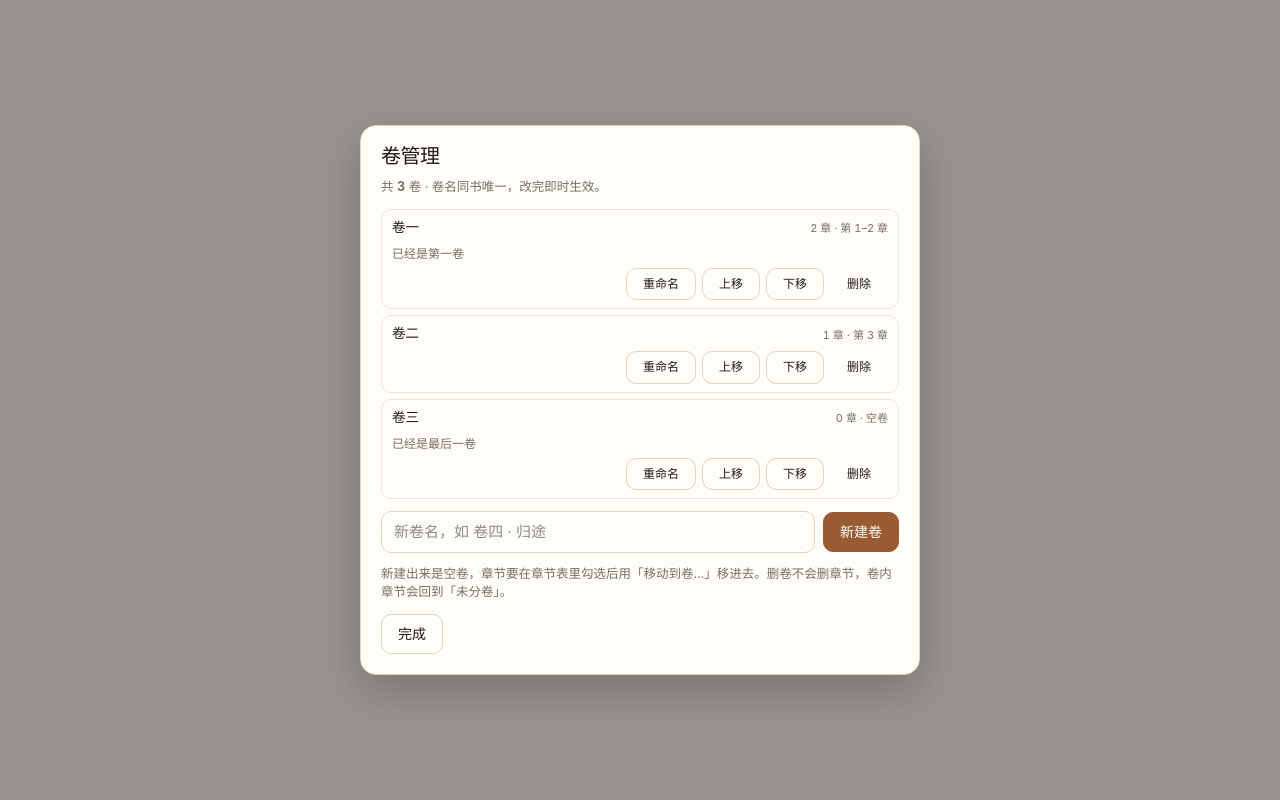
卷管理弹窗 › 新建空卷：空名与重名都在前端挡下，不发请求
The image size is (1280, 800).
Click the button with test id "volume-create" at coordinates (861, 532), box [823,512,899,552]
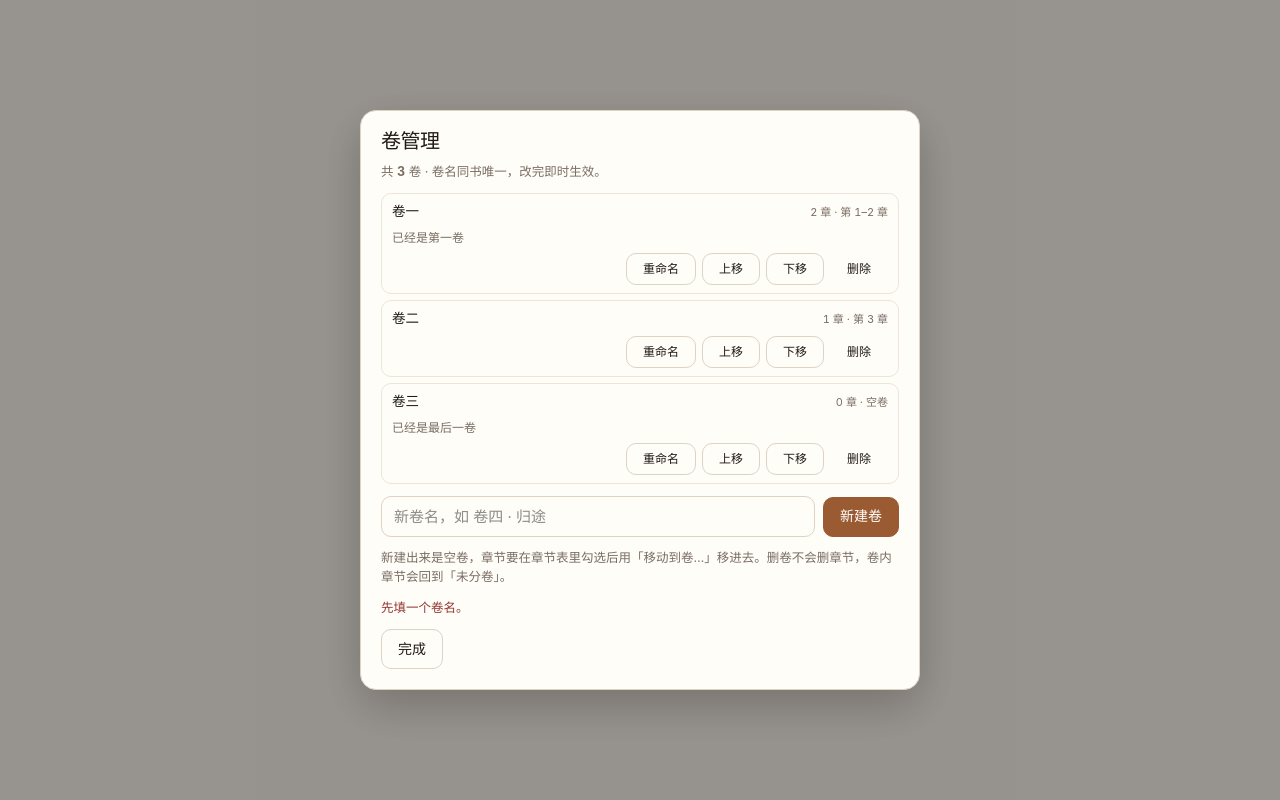
Check: the message with test id "volume-error" reads "先填一个卷名。", box [381,600,468,615]
Type " 卷一 " into the field with test id "volume-new-input" at coordinates (598, 517), box [381,496,815,537]
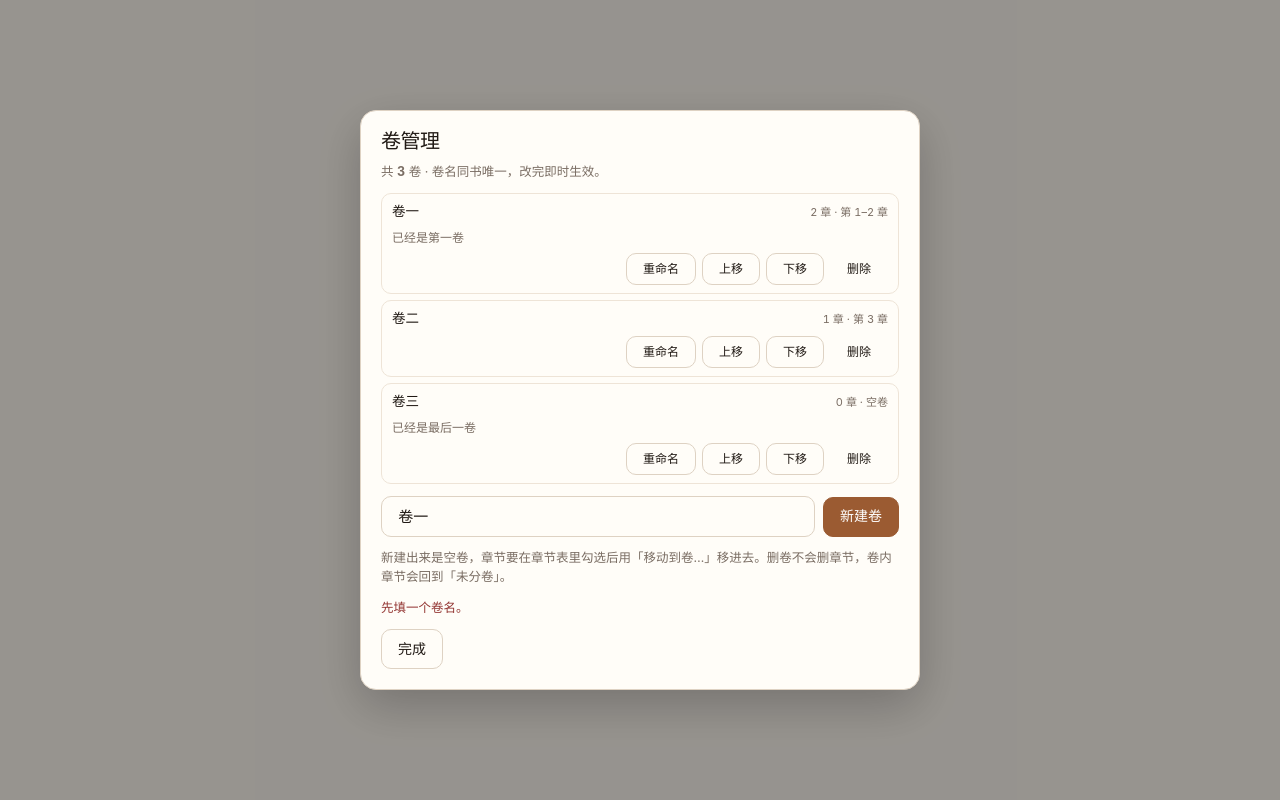
Click the button with test id "volume-create" at coordinates (861, 517), box [823,497,899,537]
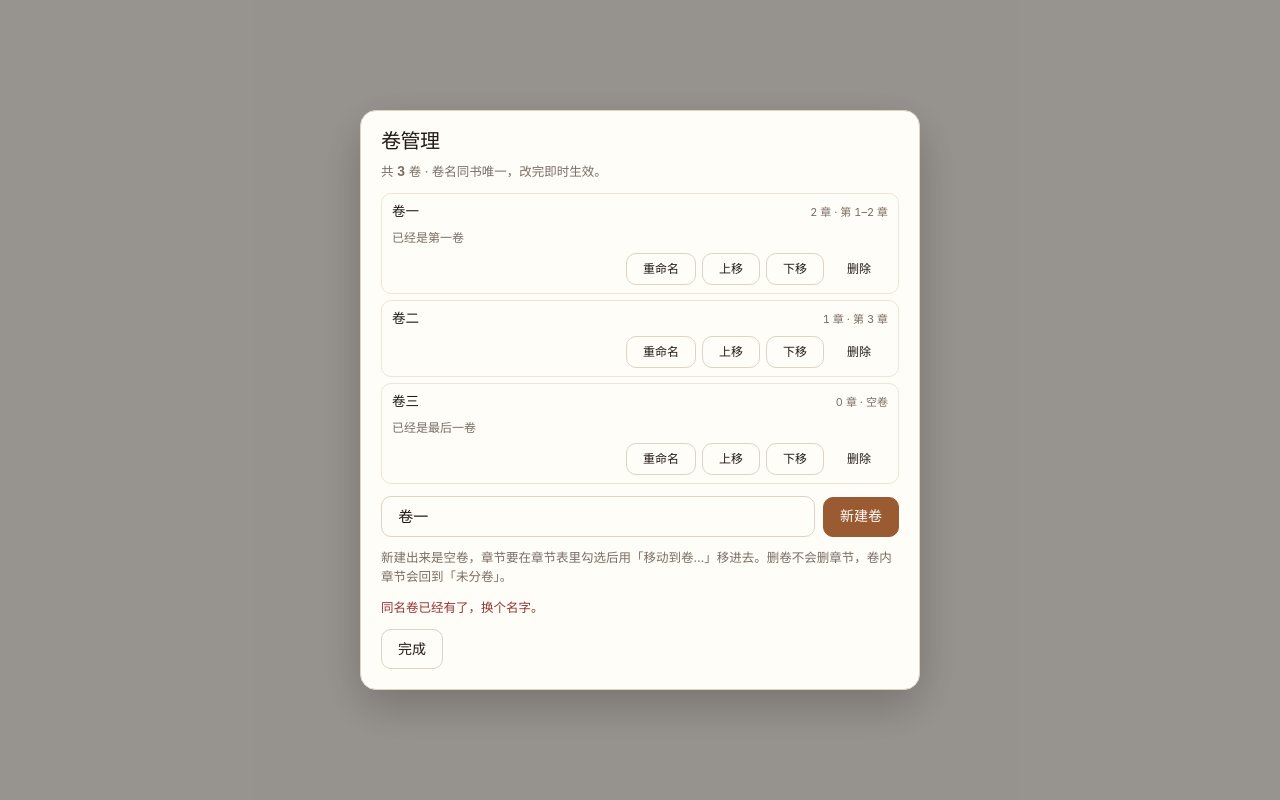
Check: the message with test id "volume-error" reads "同名卷已经有了，换个名字。", box [381,600,544,615]
